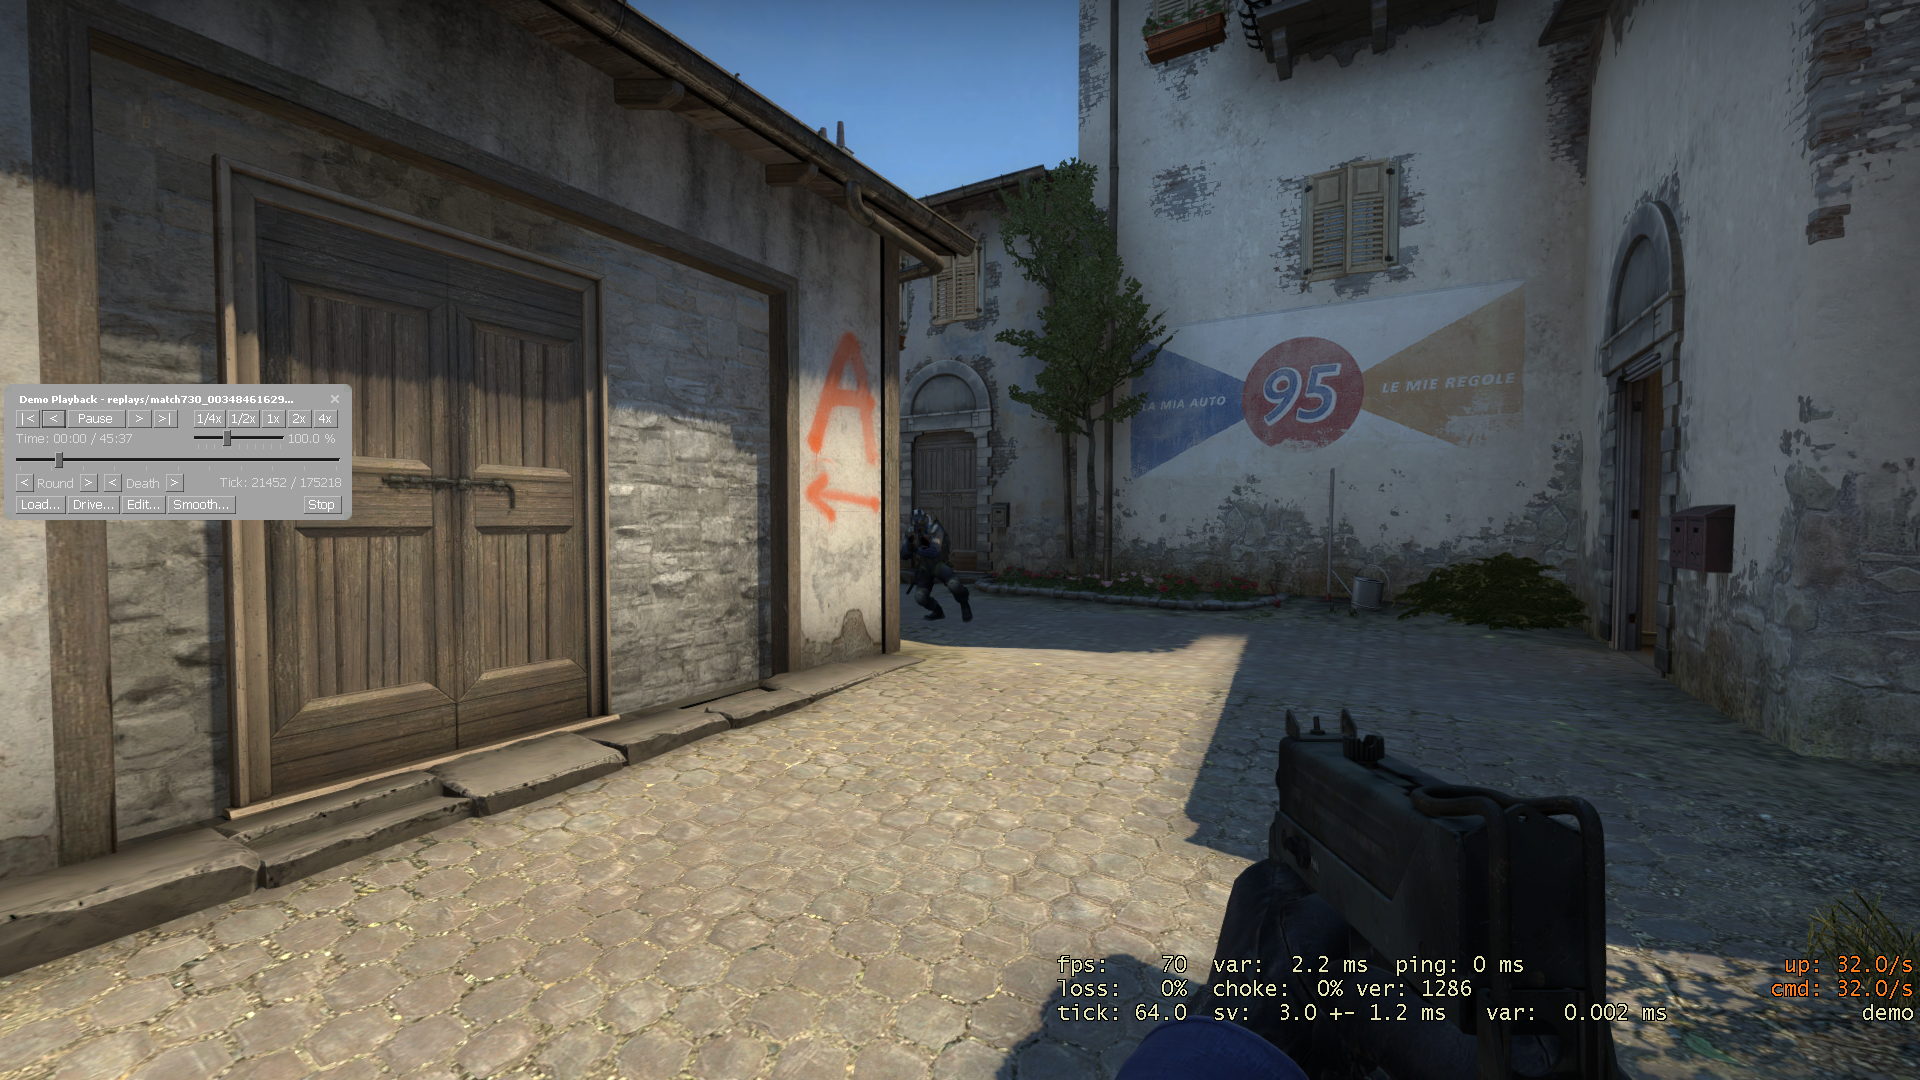ct: (901, 509, 973, 622)
